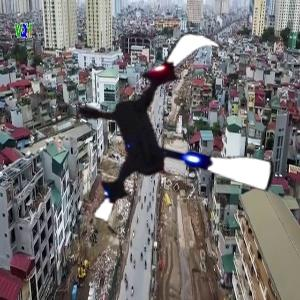drone: (60, 26, 288, 254)
